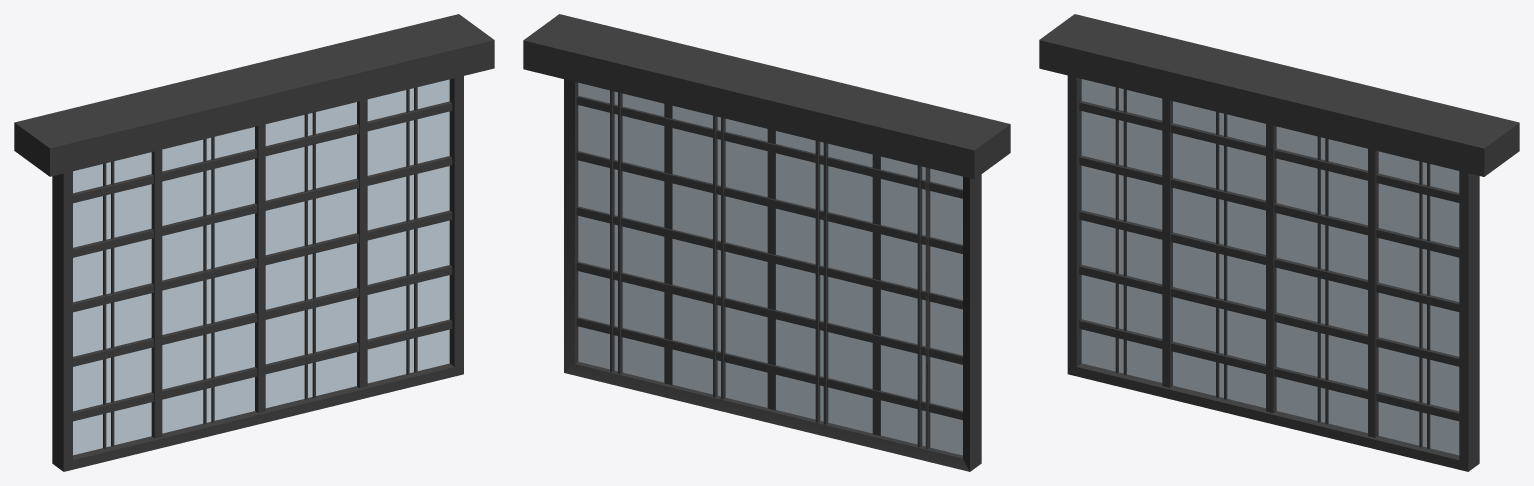
Rendered from window_016.fbx.
3 renders of one model, left to right at view 1: azimuth 30°, elevation 25°; view 2: azimuth 150°, elevation 25°; view 3: azimuth 330°, elevation 25°, orthographic.
Parts seen in each view (by area): view 1: window_016; view 2: window_016; view 3: window_016.
Boxes of the visible parts, box(x1,y1,x2,y2) form: window_016: box(14, 14, 494, 471); window_016: box(523, 14, 1010, 471); window_016: box(1039, 14, 1519, 471).
Size of the model in its own units: 343 by 47.45 by 246.
